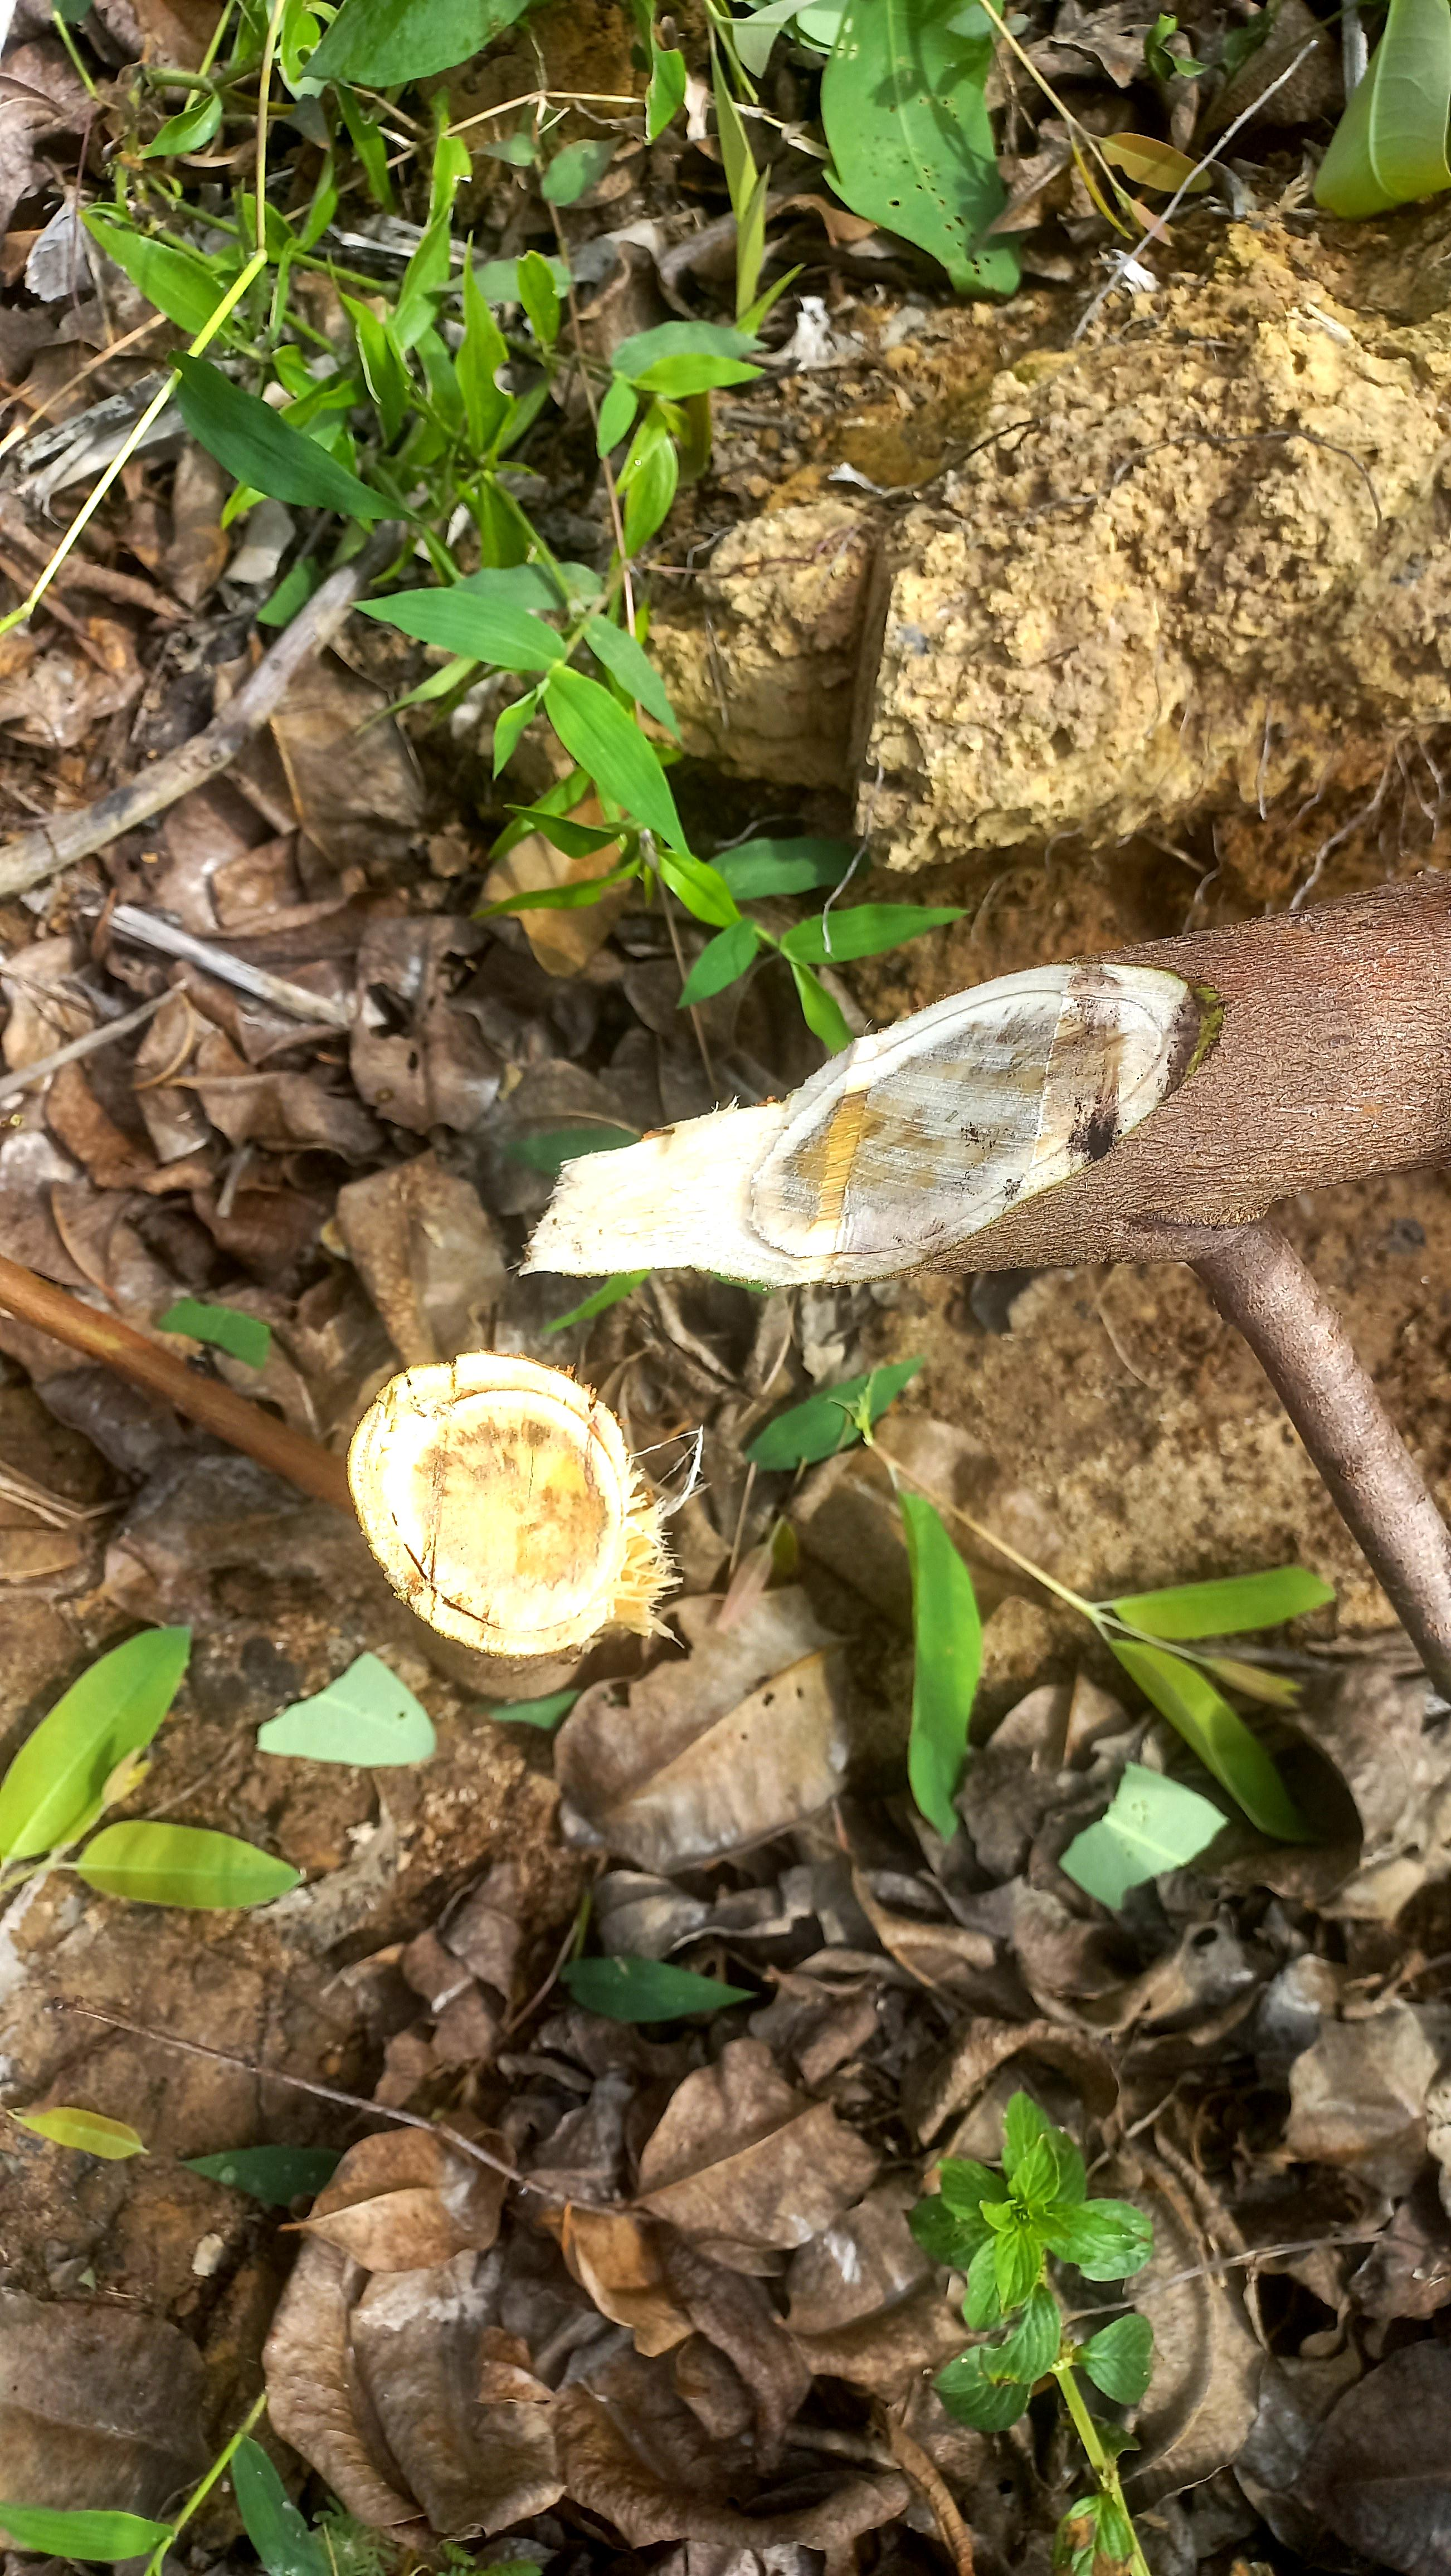Ralstonia: (786, 978, 1106, 1265), (416, 1410, 607, 1585)
